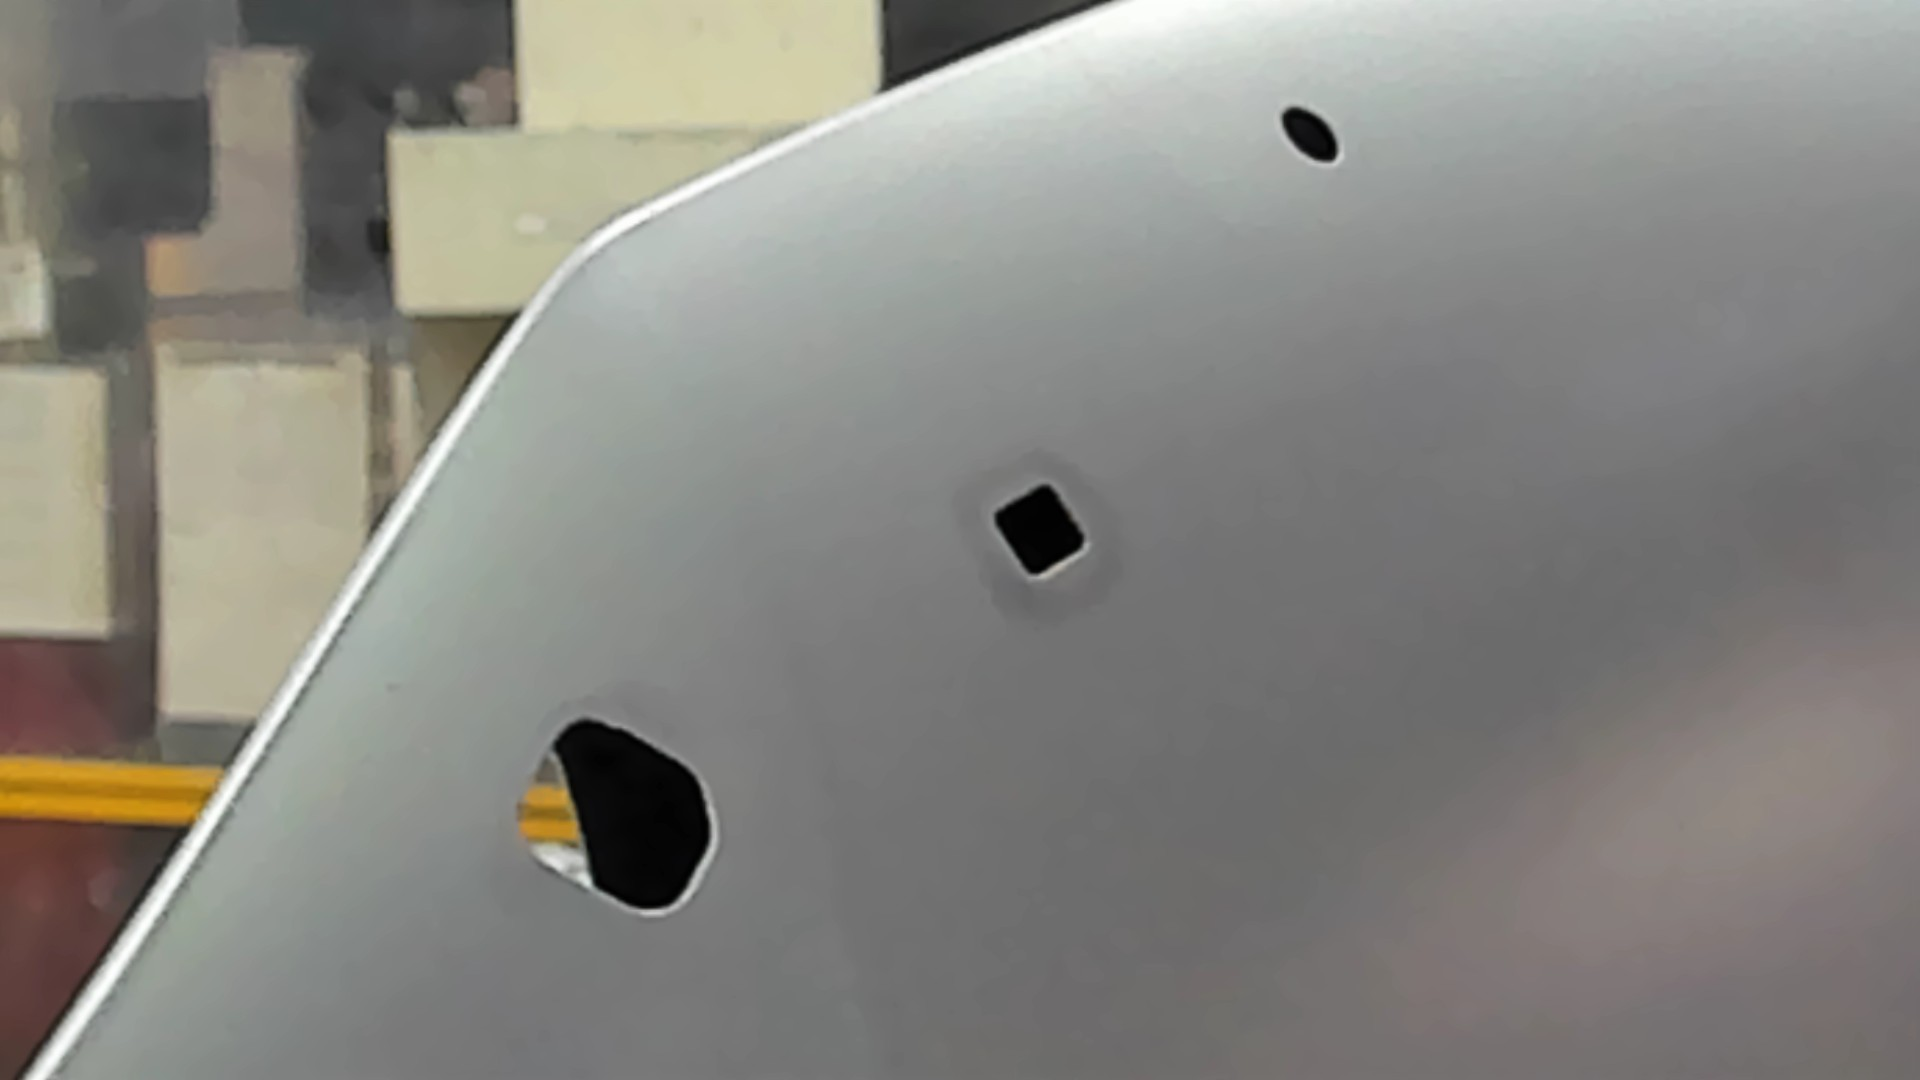chico: (1276, 99, 1342, 169)
grande: (512, 715, 727, 926)
mediano: (981, 477, 1100, 584)
